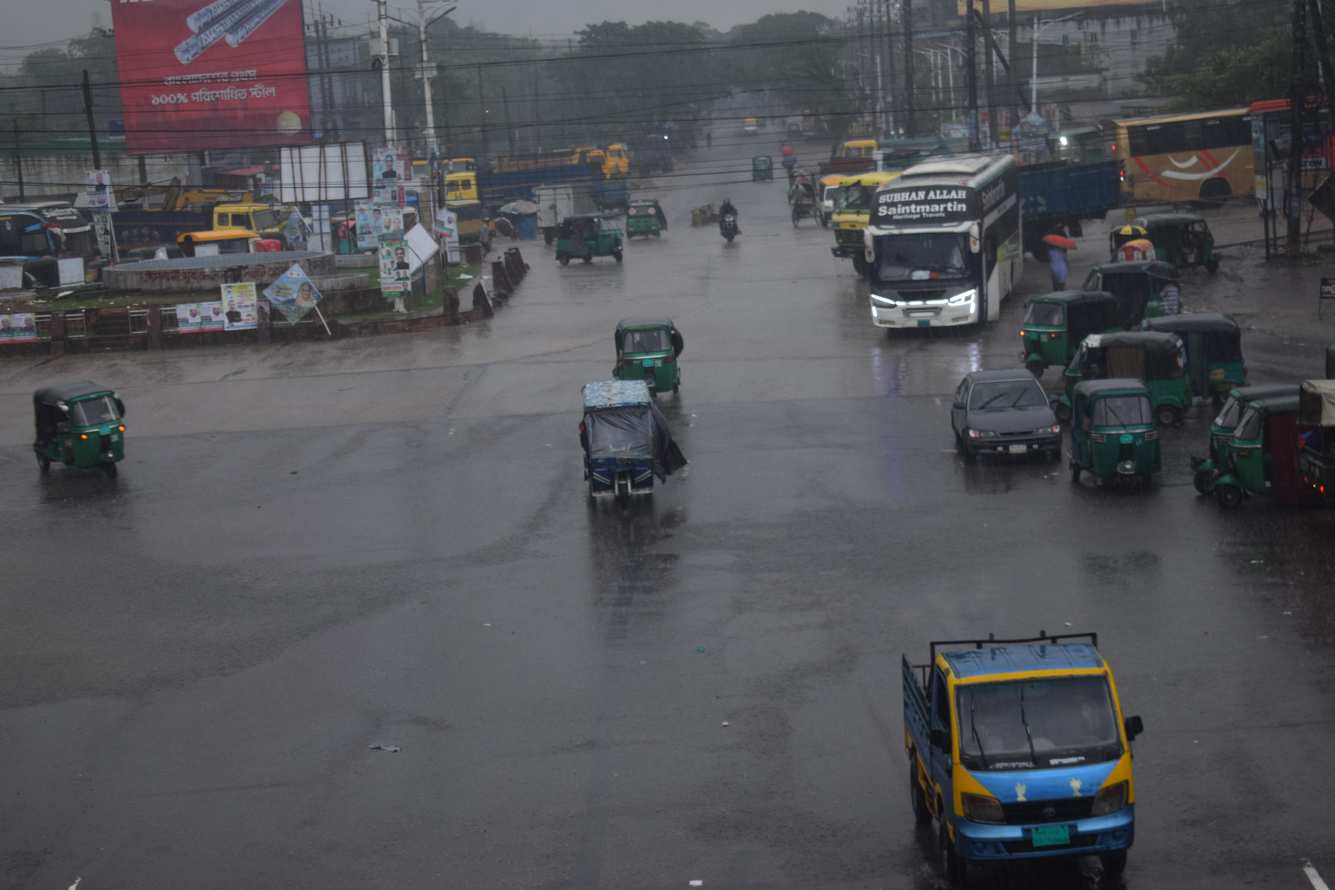Bike: (705, 179, 748, 256)
Bus: (840, 132, 1036, 364), (1086, 75, 1335, 245)
Car: (537, 360, 704, 560), (925, 334, 1096, 498)
Truck: (848, 563, 1179, 890), (153, 157, 312, 261), (421, 134, 630, 213)
